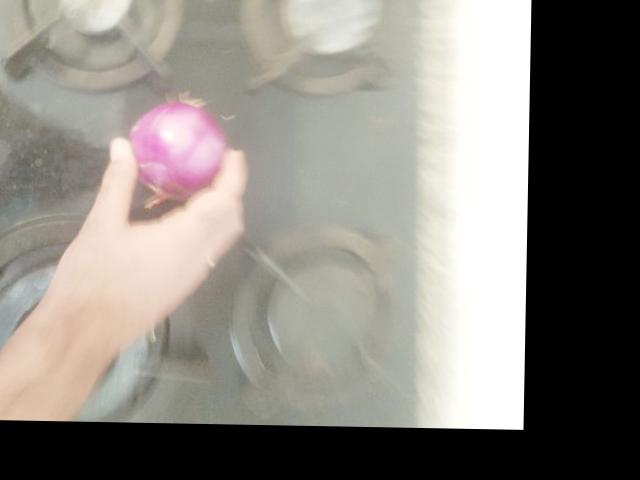onion: (281, 38, 369, 126)
